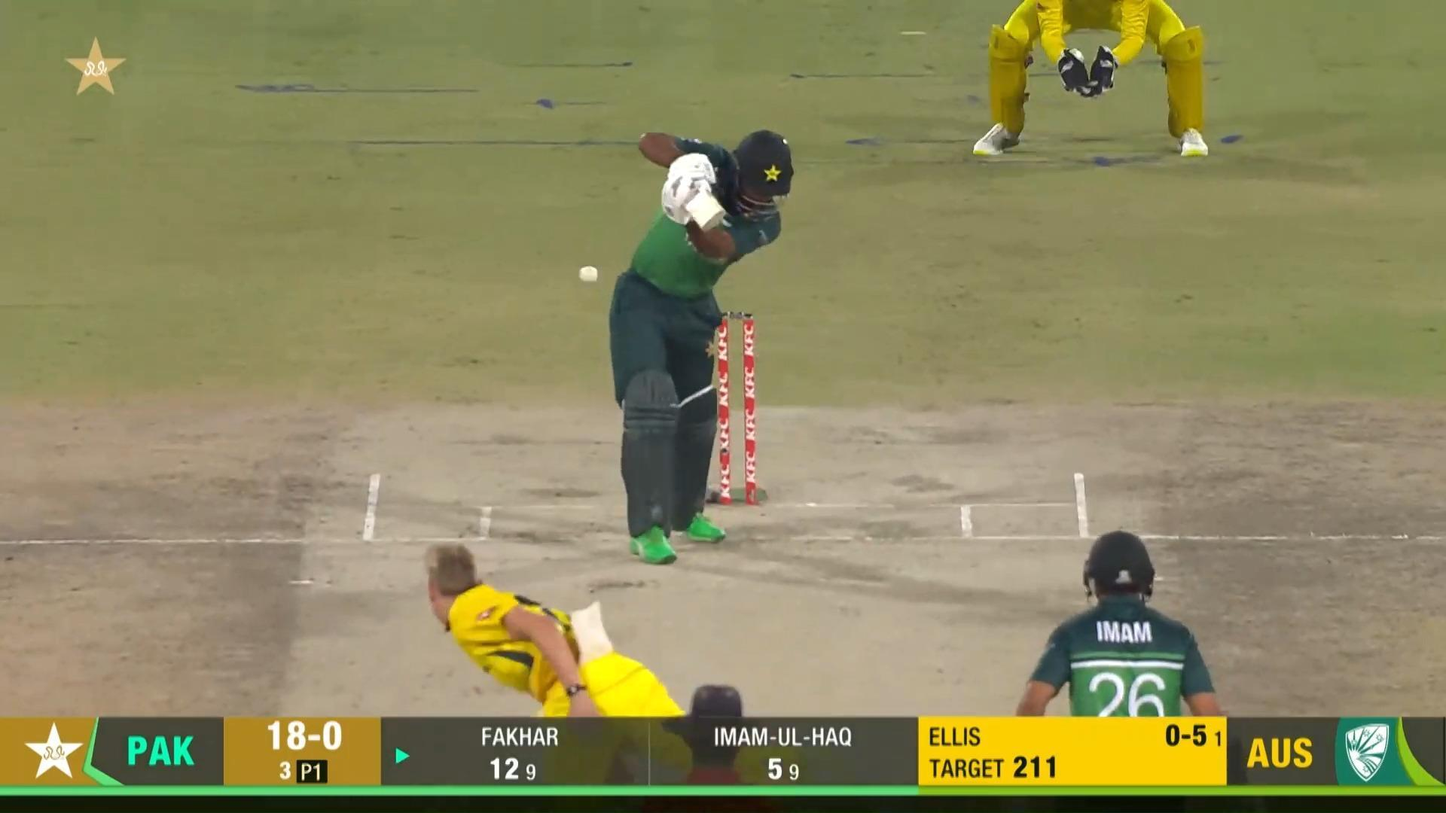BM 1: (608, 128, 795, 565)
BO: (420, 538, 815, 813)
